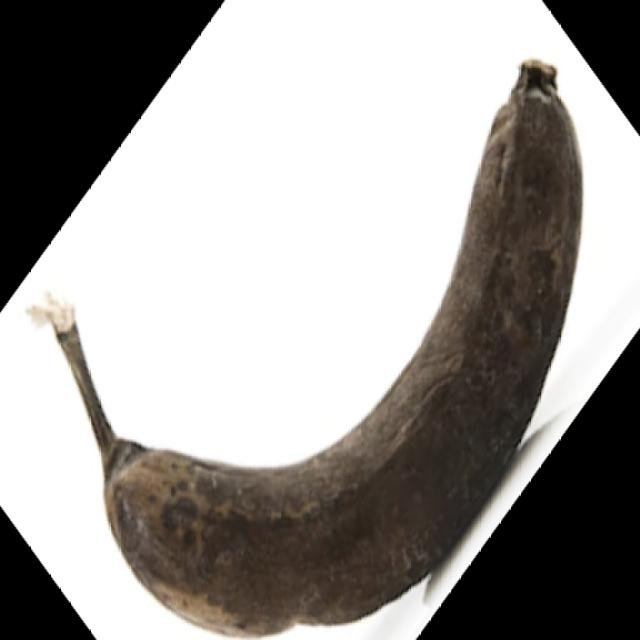Rotten: (24, 58, 582, 640)
